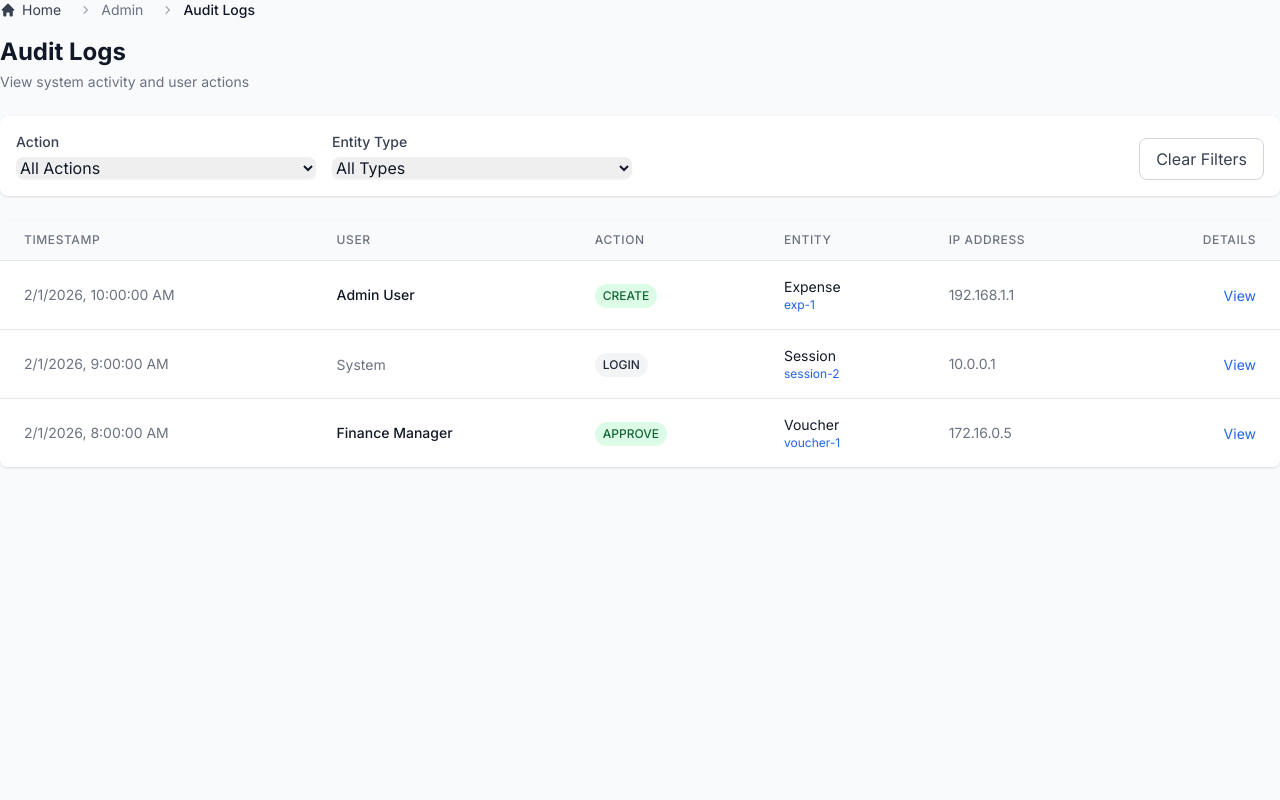
Test case: AuditLogsPage › Detail Modal › closes modal when clicking Close button
Click the button "View" in the row of "2/1/2026, 10:00:00 AM" at (1240, 296), box 1224,286 -> 1256,306
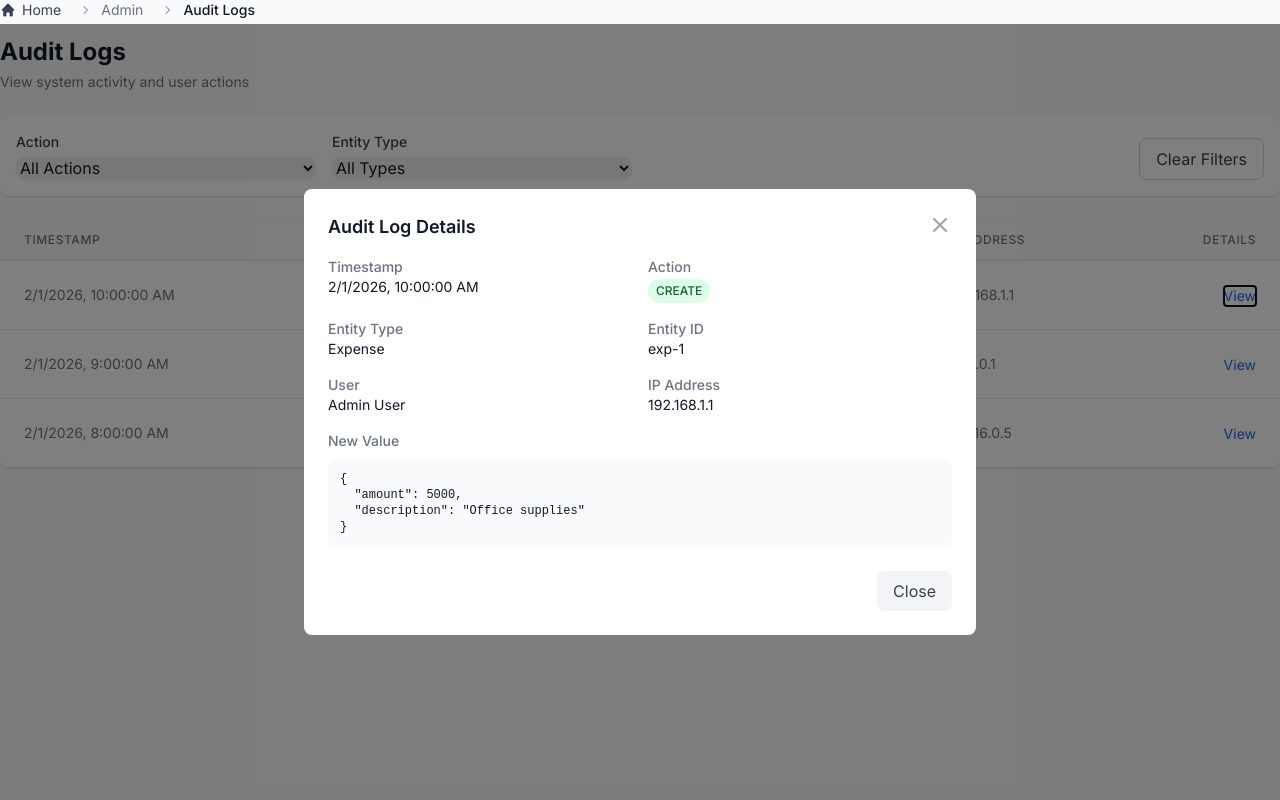
Result: the heading "Audit Log Details" is shown at 328,213 -> 476,241
Click the button "Close" at (915, 591), box 877,571 -> 952,611
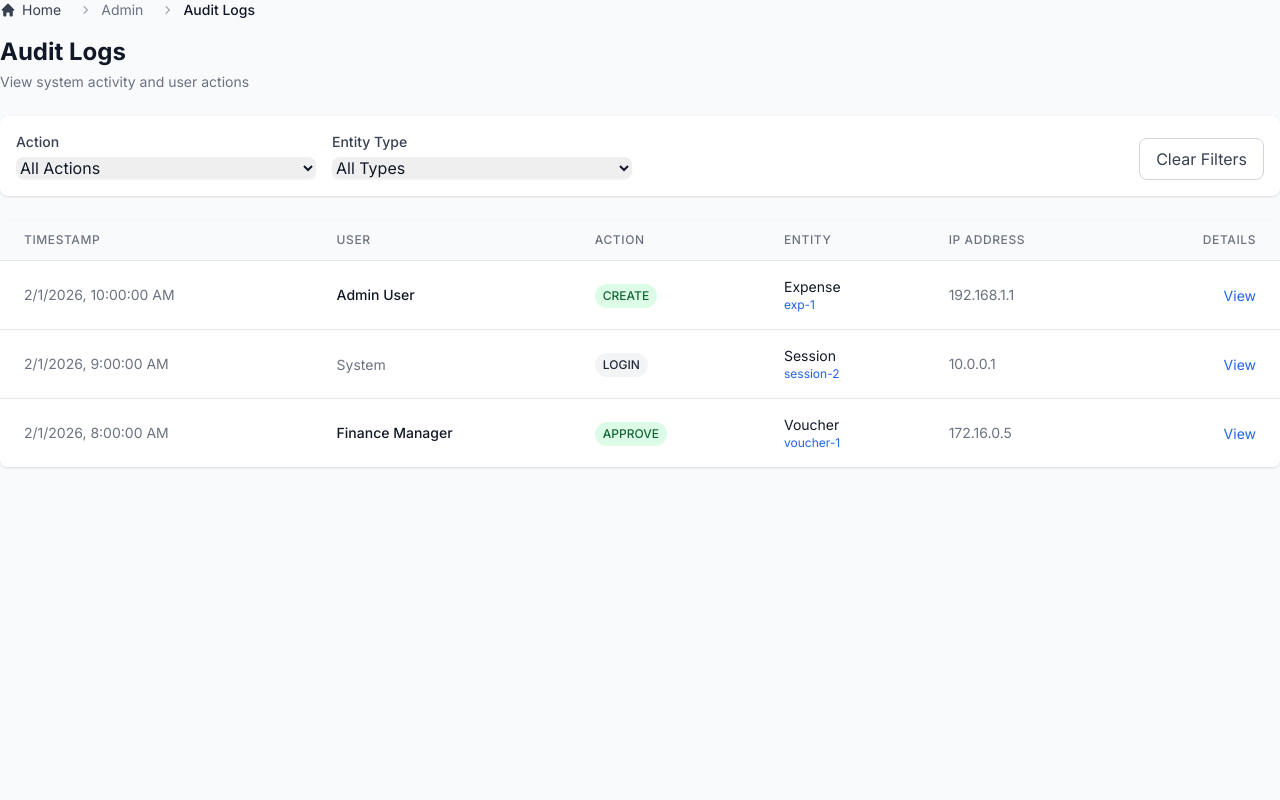
Result: the heading "Audit Log Details" is gone
